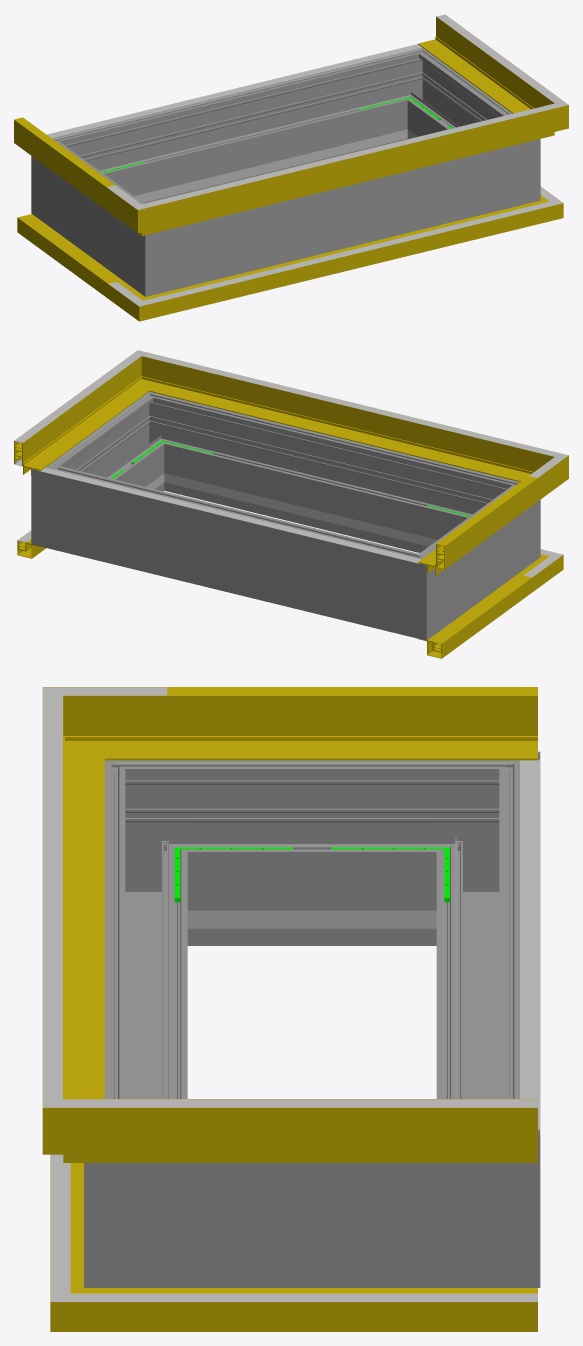
The picture shows the model from 3 angles, top to bottom: view 1: azimuth 30°, elevation 25°; view 2: azimuth 150°, elevation 25°; view 3: azimuth 270°, elevation 25°; orthographic projection. The views are drawn at different scales.
Visible parts, largest first — view 1: 3DGeom-277, 3DGeom-299, 3DGeom-56, 3DGeom-11, 3DGeom-271, 3DGeom-58, 3DGeom-285, 3DGeom-291, 3DGeom-269, 3DGeom-298, 3DGeom-279, 3DGeom-50 (+17 smaller); view 2: 3DGeom-299, 3DGeom-277, 3DGeom-56, 3DGeom-279, 3DGeom-285, 3DGeom-58, 3DGeom-291, 3DGeom-298, 3DGeom-269, 3DGeom-271, 3DGeom-50, 3DGeom-60 (+12 smaller); view 3: 3DGeom-269, 3DGeom-298, 3DGeom-50, 3DGeom-58, 3DGeom-277, 3DGeom-299, 3DGeom-285, 3DGeom-291, 3DGeom-271, 3DGeom-279, 3DGeom-56, 3DGeom-16 (+15 smaller).
Part boxes in pixels (x1,y1,x2,y2): 3DGeom-277: [90, 59, 398, 203]; 3DGeom-299: [199, 152, 486, 283]; 3DGeom-56: [186, 115, 514, 224]; 3DGeom-11: [185, 210, 509, 308]; 3DGeom-271: [114, 195, 199, 296]; 3DGeom-58: [418, 14, 532, 111]; 3DGeom-285: [378, 48, 448, 141]; 3DGeom-291: [486, 105, 540, 213]; 3DGeom-269: [62, 157, 131, 273]; 3DGeom-298: [412, 67, 500, 136]; 3DGeom-279: [31, 129, 111, 235]; 3DGeom-50: [14, 118, 114, 210]; 3DGeom-299: [173, 402, 481, 552]; 3DGeom-277: [85, 475, 382, 627]; 3DGeom-56: [176, 363, 514, 476]; 3DGeom-279: [372, 538, 457, 640]; 3DGeom-285: [31, 448, 95, 557]; 3DGeom-58: [14, 373, 133, 474]; 3DGeom-291: [123, 391, 194, 492]; 3DGeom-298: [71, 410, 159, 490]; 3DGeom-269: [440, 500, 509, 617]; 3DGeom-271: [461, 472, 540, 579]; 3DGeom-50: [418, 476, 537, 575]; 3DGeom-60: [107, 350, 186, 402]; 3DGeom-269: [208, 760, 415, 945]; 3DGeom-298: [208, 1163, 415, 1287]; 3DGeom-50: [167, 687, 537, 760]; 3DGeom-58: [167, 1099, 537, 1162]; 3DGeom-277: [436, 804, 540, 1098]; 3DGeom-299: [104, 804, 187, 1098]; 3DGeom-285: [416, 1085, 540, 1287]; 3DGeom-291: [84, 1085, 208, 1287]; 3DGeom-271: [104, 760, 208, 945]; 3DGeom-279: [416, 751, 540, 945]; 3DGeom-56: [42, 740, 104, 1098]; 3DGeom-16: [174, 1288, 537, 1331].
Bounding box in the file's own units: 1.22 × 0.307 × 0.6096.
